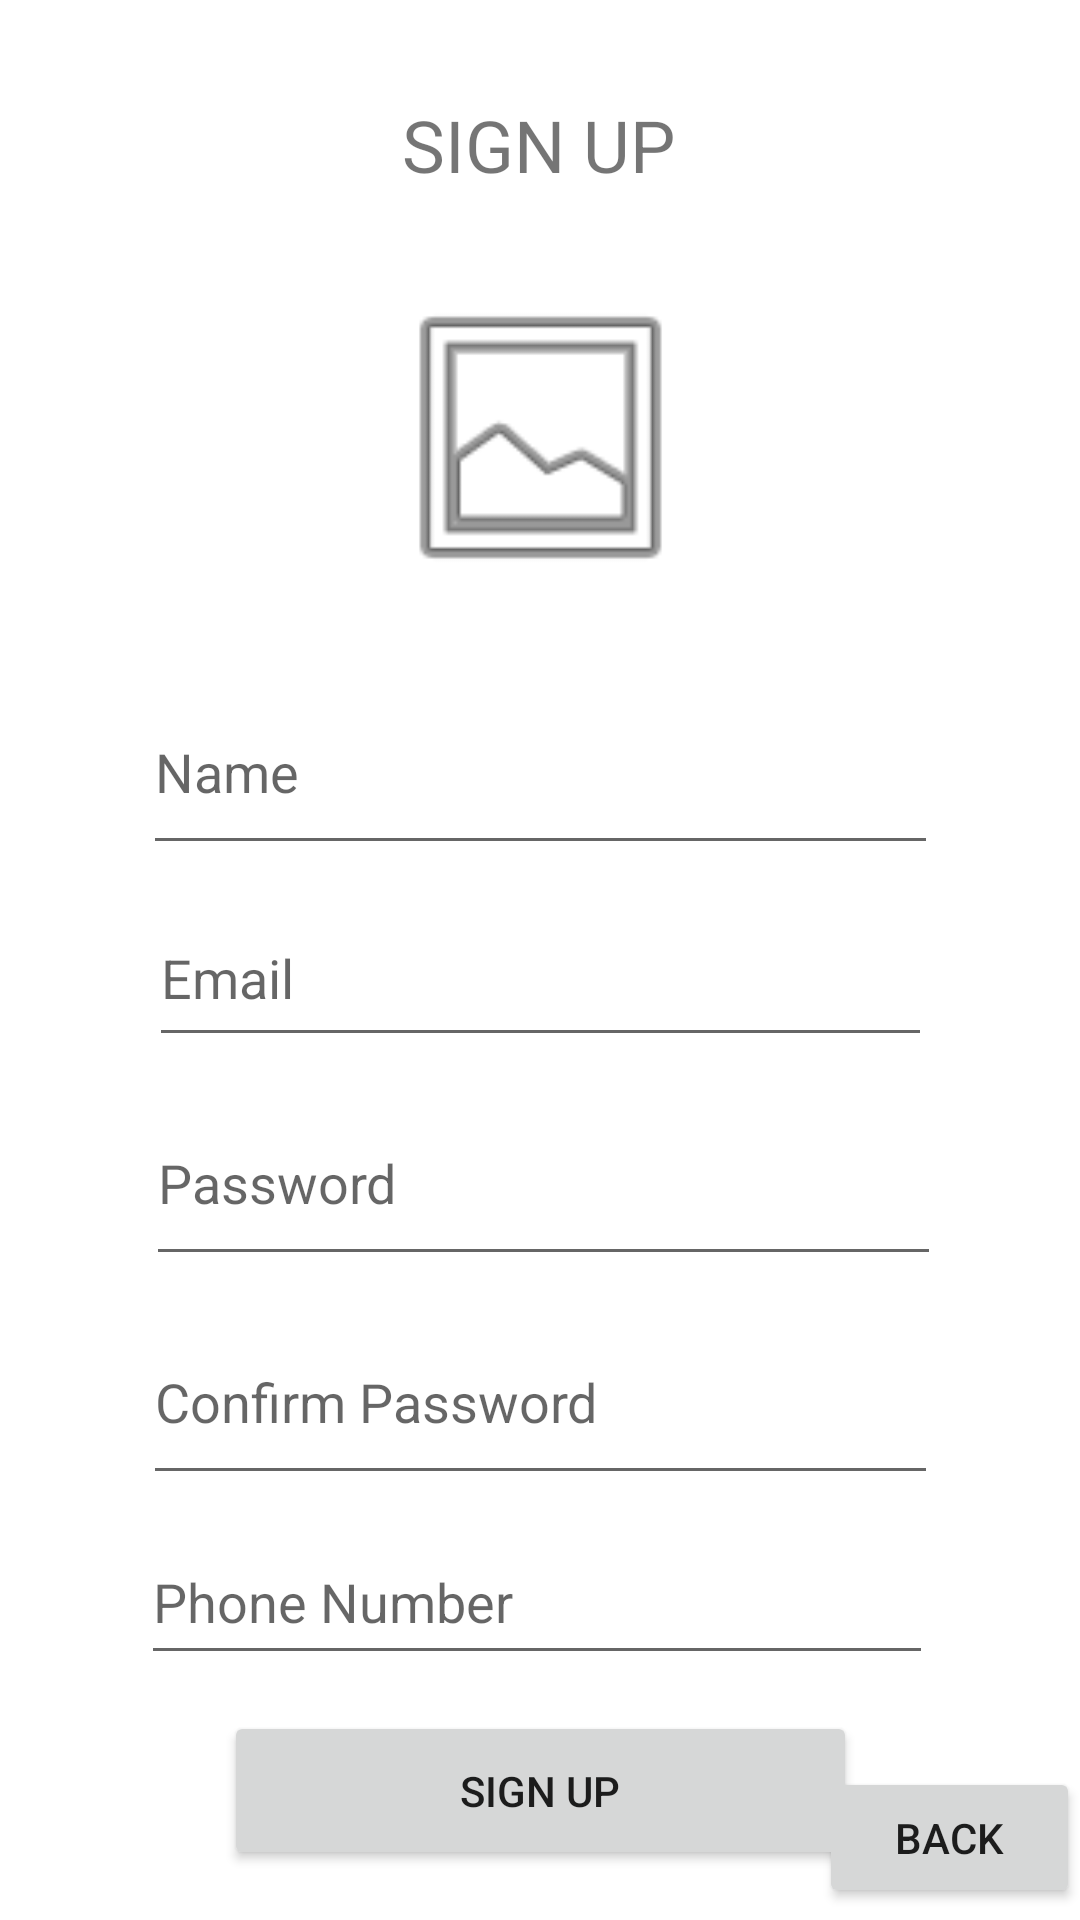

Icons on this 1080px×1920px Android screen, each with the point to tap as point (x, y):
gallery: point (540, 437)
